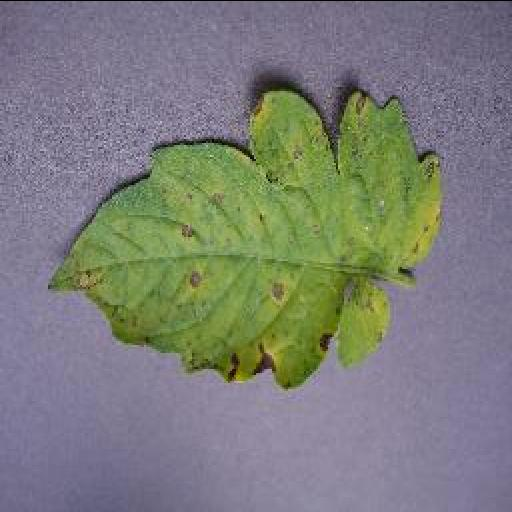disease_tomato: (48, 84, 450, 390)
